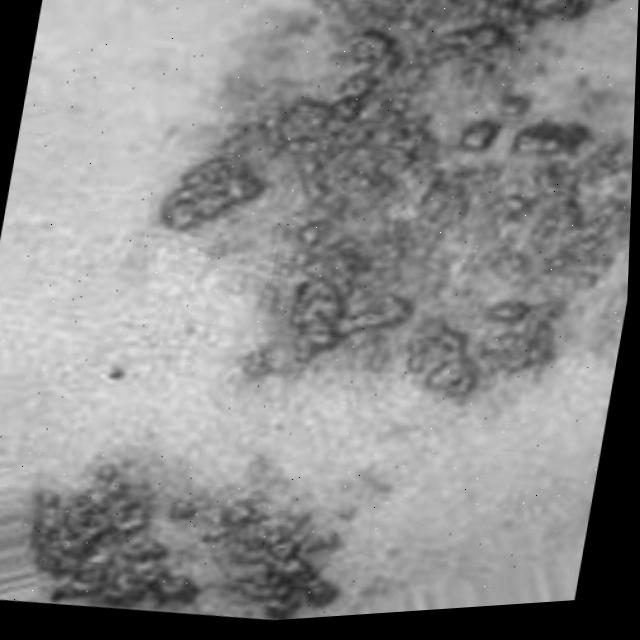Shingles: (140, 0, 640, 441), (22, 441, 364, 637)
